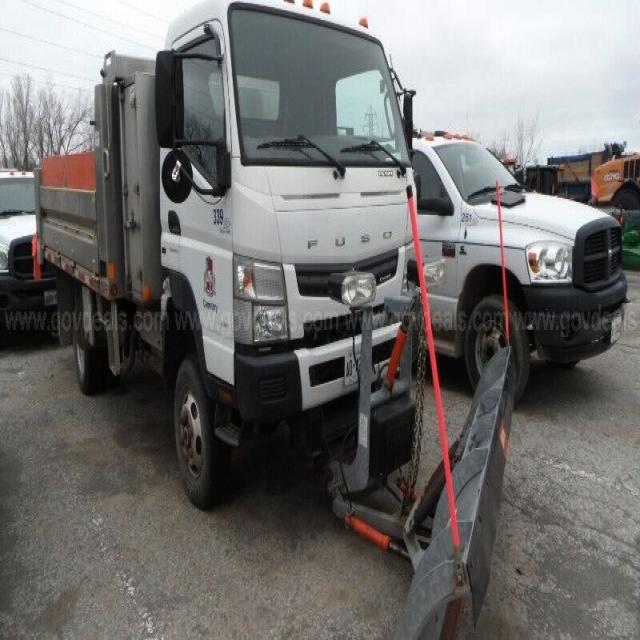truck: (36, 1, 424, 512)
